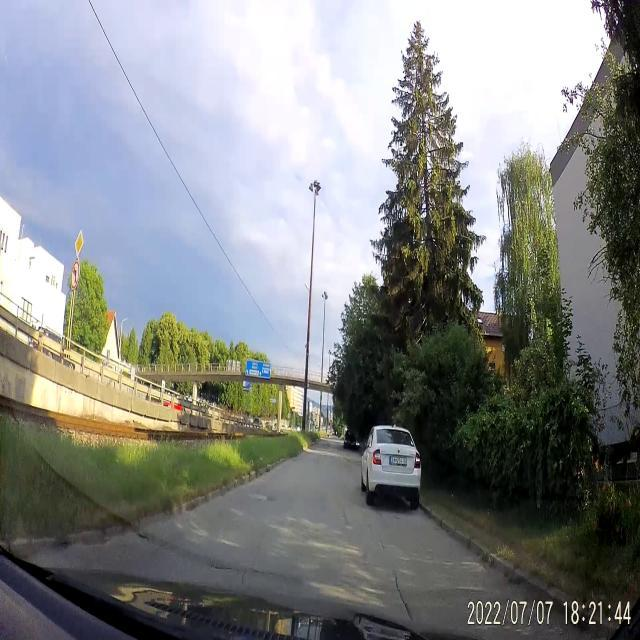Pothole: (242, 492, 278, 504)
